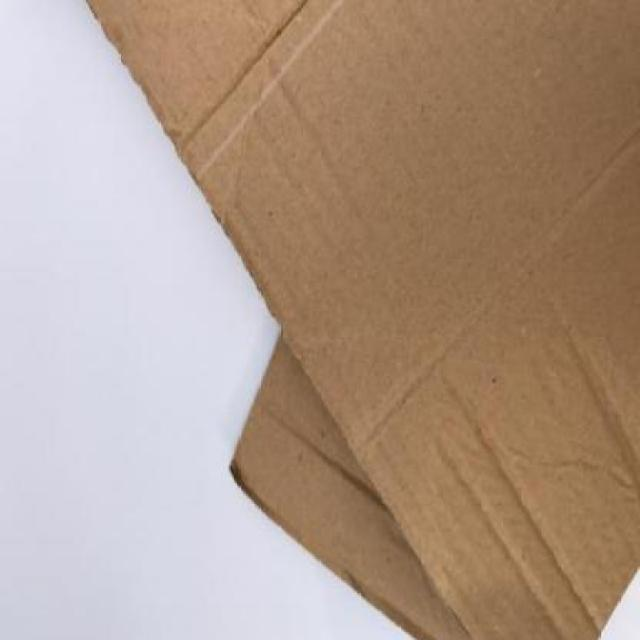box: (76, 1, 638, 640)
